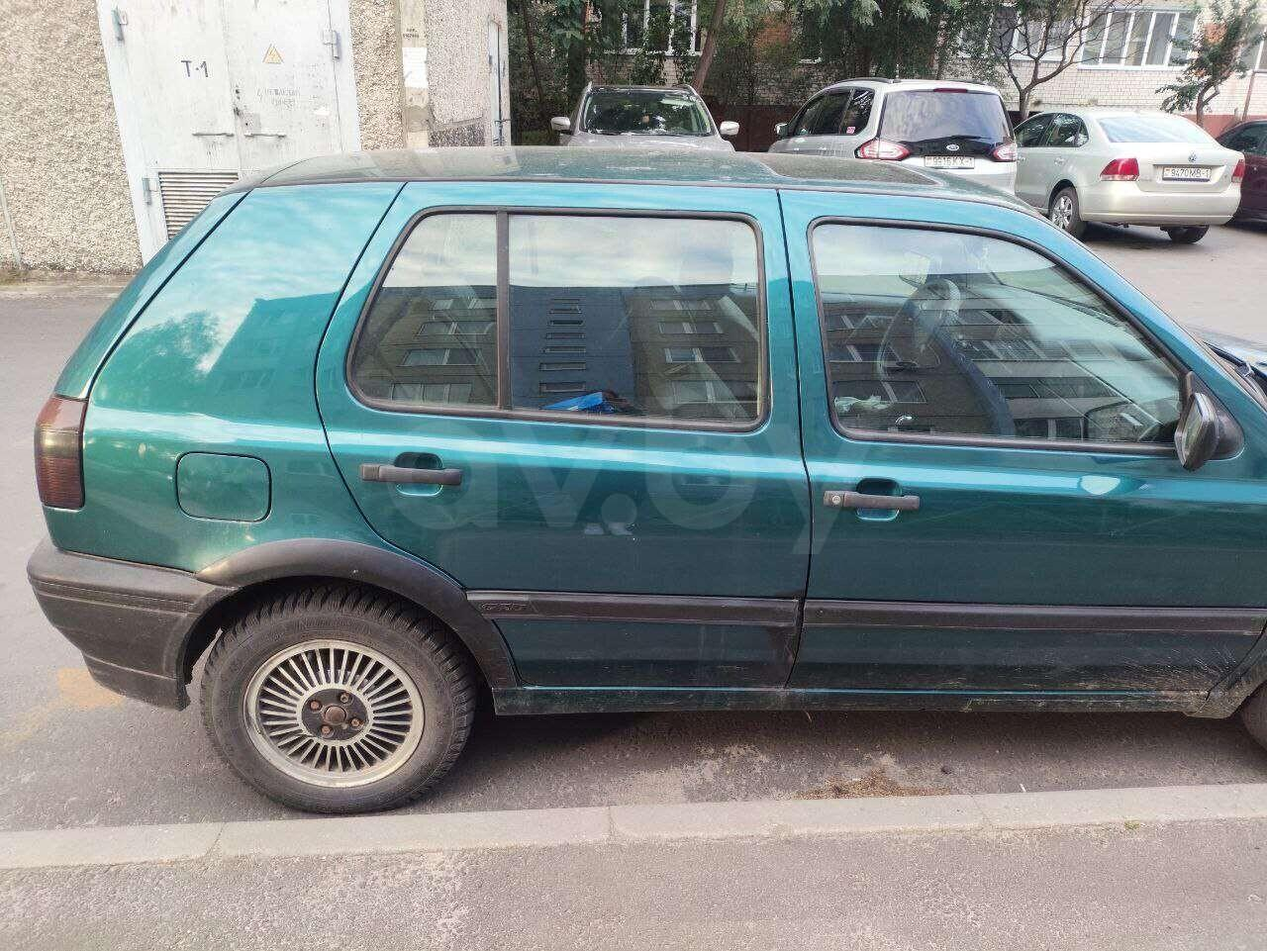Golf_1991-2000: (21, 145, 1267, 817)
